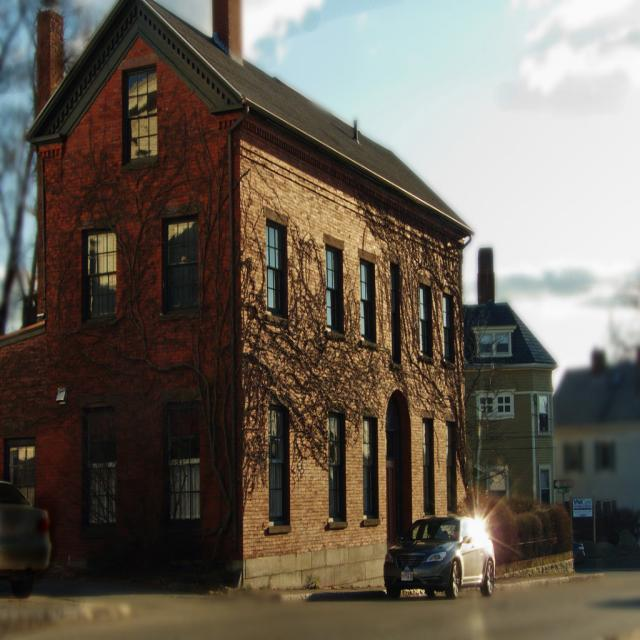other: (384, 518, 503, 606), (0, 482, 51, 602)
